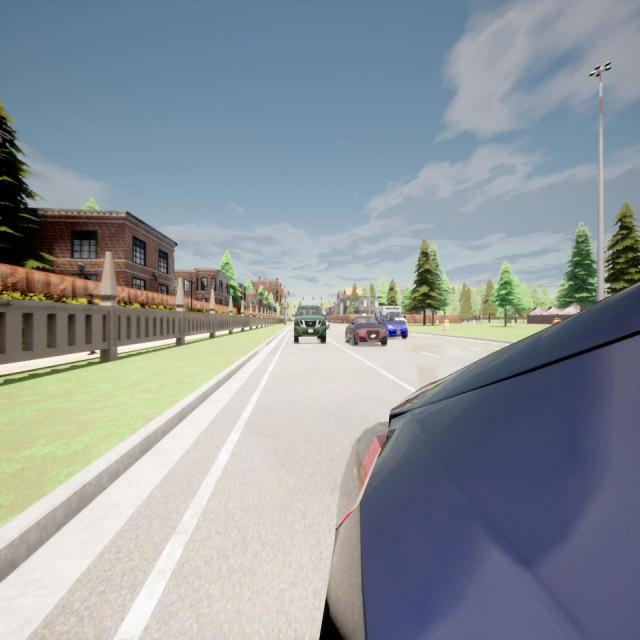Vehicle: (327, 284, 639, 638), (291, 306, 326, 344), (345, 316, 387, 346), (377, 317, 408, 339), (374, 306, 407, 325)
traffic_light: (302, 296, 304, 300), (312, 296, 314, 300), (321, 296, 322, 300)
